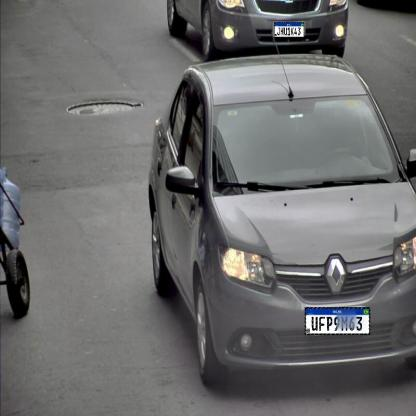PlacaM: (305, 307, 370, 335), (274, 22, 304, 38)
